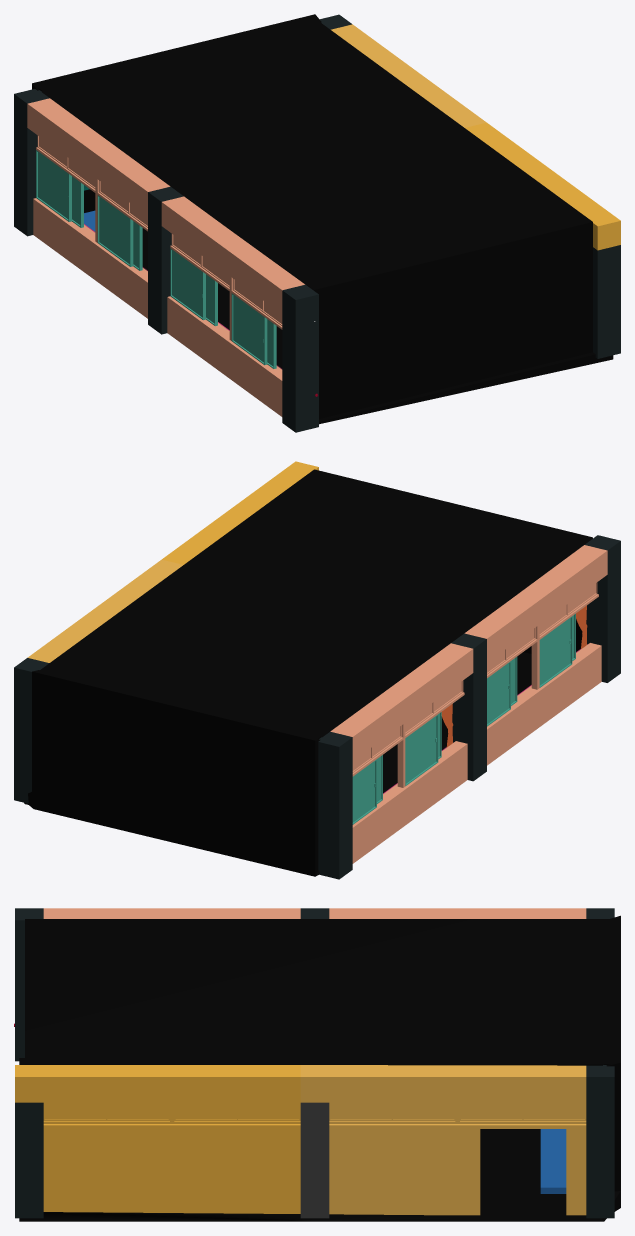
The model's file is Classroom 1.fbx.
The picture shows the model from 3 angles, top to bottom: view 1: azimuth 30°, elevation 25°; view 2: azimuth 150°, elevation 25°; view 3: azimuth 270°, elevation 25°; orthographic projection. The views are drawn at different scales.
Parts seen in each view (by area): view 1: class_room1; view 2: class_room1; view 3: class_room1.
Part boxes in pixels (x1=…): class_room1: x1=14, y1=14, x2=620, y2=432; class_room1: x1=14, y1=461, x2=620, y2=879; class_room1: x1=14, y1=908, x2=620, y2=1221.
Bounding box in the file's own units: 857 × 356 × 1296.
Materials: 1 (1 with a texture image).
